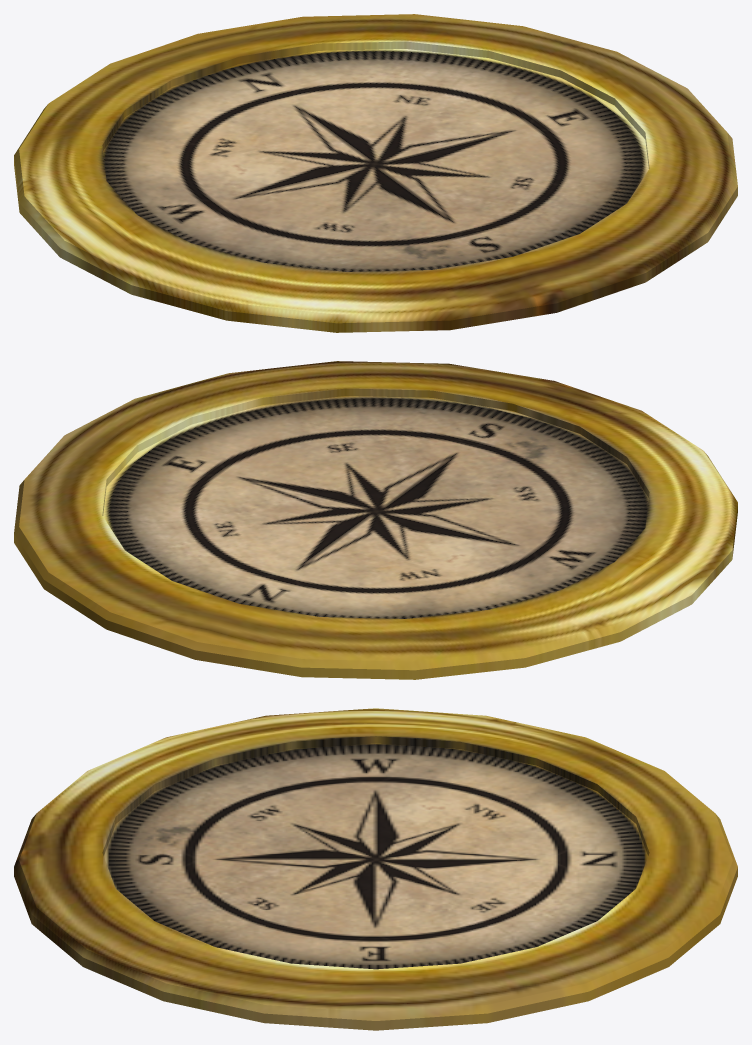
File: compassMesh.FBX
The picture shows the model from 3 angles, top to bottom: view 1: azimuth 30°, elevation 25°; view 2: azimuth 150°, elevation 25°; view 3: azimuth 270°, elevation 25°; orthographic projection.
Visible parts, largest first — view 1: compass; view 2: compass; view 3: compass.
Boxes of the visible parts, x1,y1,x2,y2 form: compass: [14, 14, 737, 332]; compass: [14, 361, 737, 679]; compass: [14, 708, 737, 1030].
Bounding box in the file's own units: 1250 × 44.74 × 1240.
